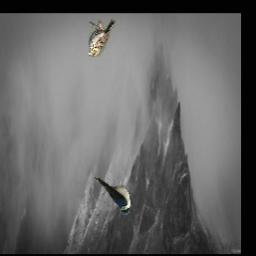Sparrow: (89, 17, 117, 56)
Swallow: (94, 177, 130, 216)
